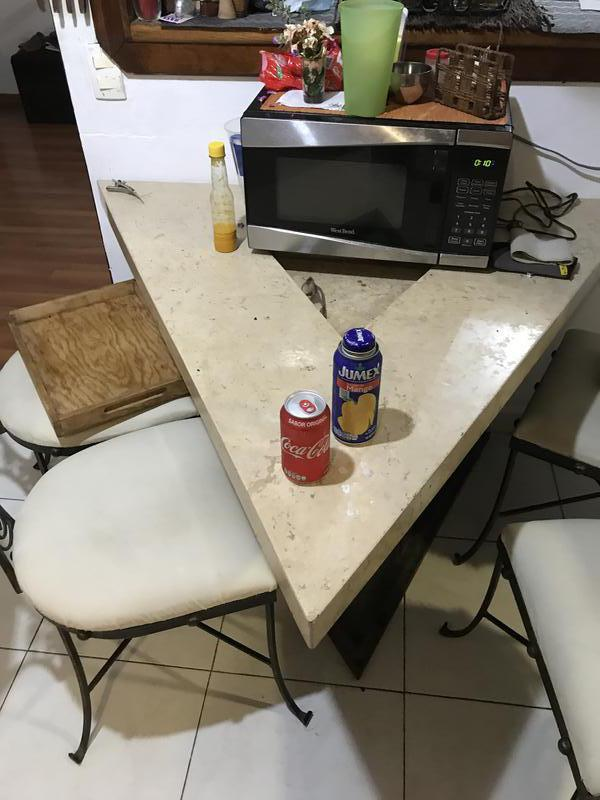coca_cola: (280, 392, 332, 487)
jugo_jumex: (331, 328, 380, 444)
